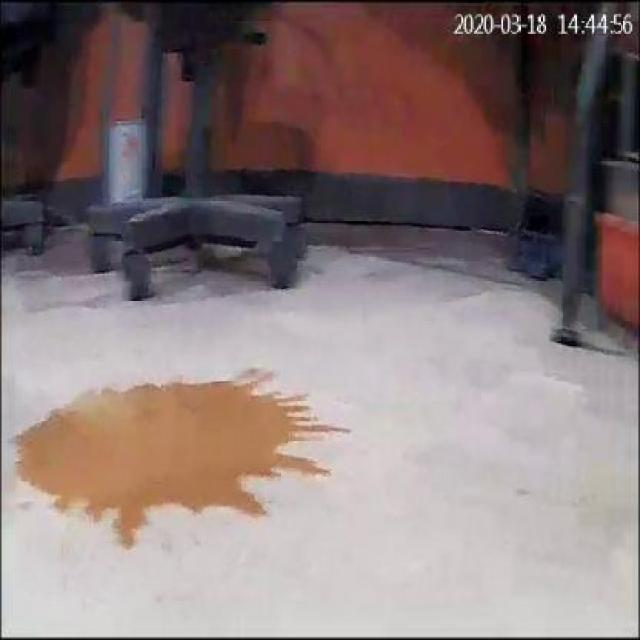spill: (12, 360, 346, 549)
